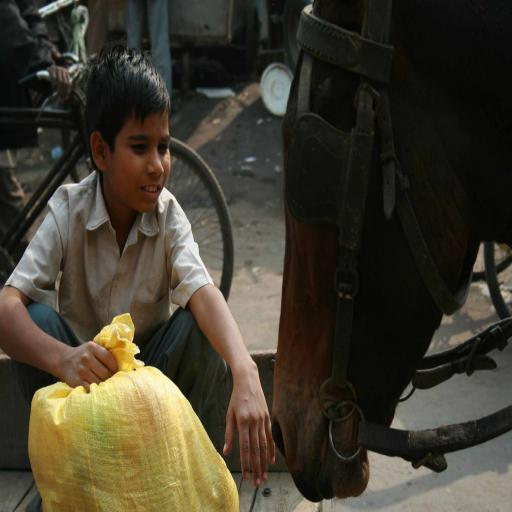Horse: (270, 0, 511, 506)
